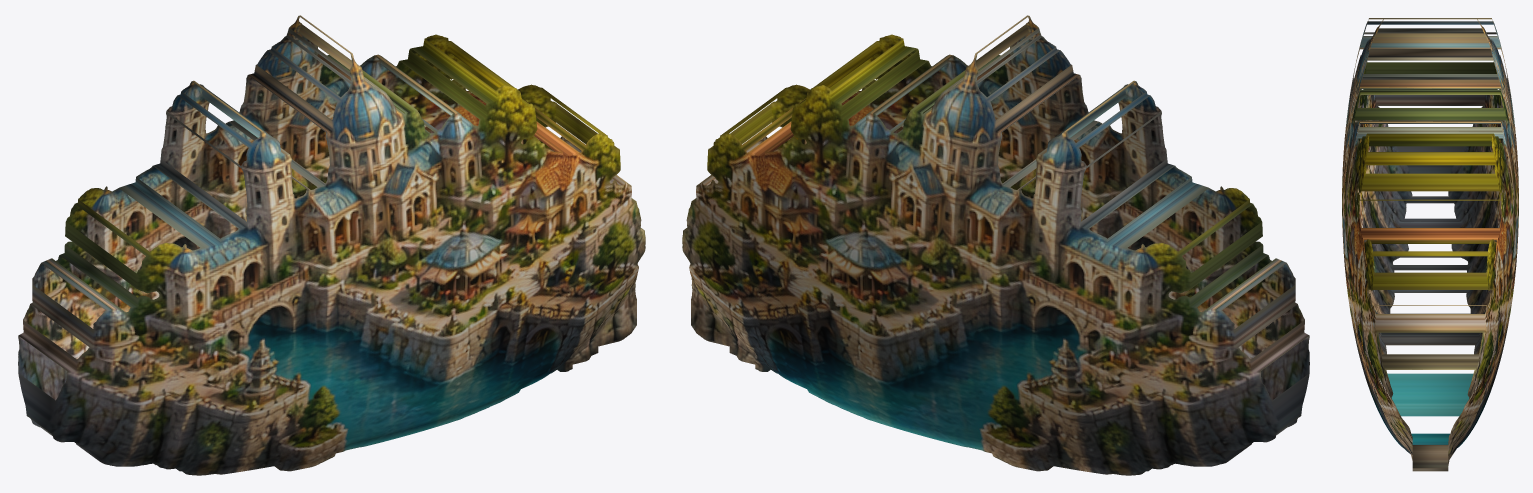
3 views of the same model, side by side, from view 1: azimuth 30°, elevation 25°; view 2: azimuth 150°, elevation 25°; view 3: azimuth 270°, elevation 25° (orthographic). The views are drawn at different scales.
Visible parts, largest first — view 1: civilizations:1; view 2: civilizations:1; view 3: civilizations:1.
Part boxes in pixels (x1=…): civilizations:1: x1=18, y1=15, x2=645, y2=475; civilizations:1: x1=682, y1=15, x2=1309, y2=475; civilizations:1: x1=1342, y1=18, x2=1518, y2=471.
Size of the model in its own units: 1.44 by 0.9444 by 0.42.
Materials: 1 (1 with a texture image).
